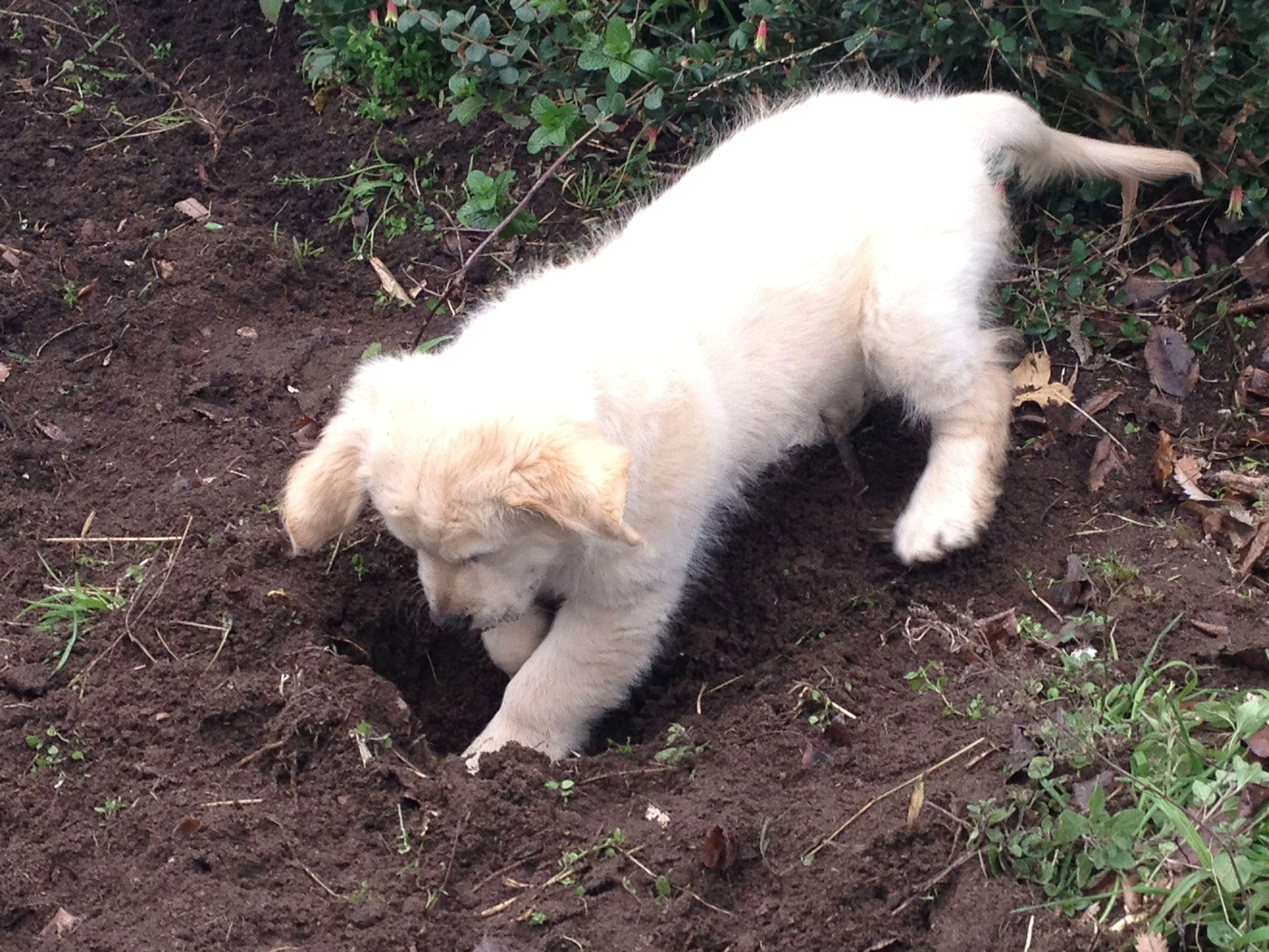puppy-dog: (278, 84, 1205, 771)
